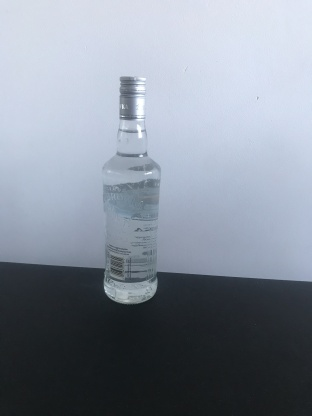nakretka: (117, 73, 147, 123)
